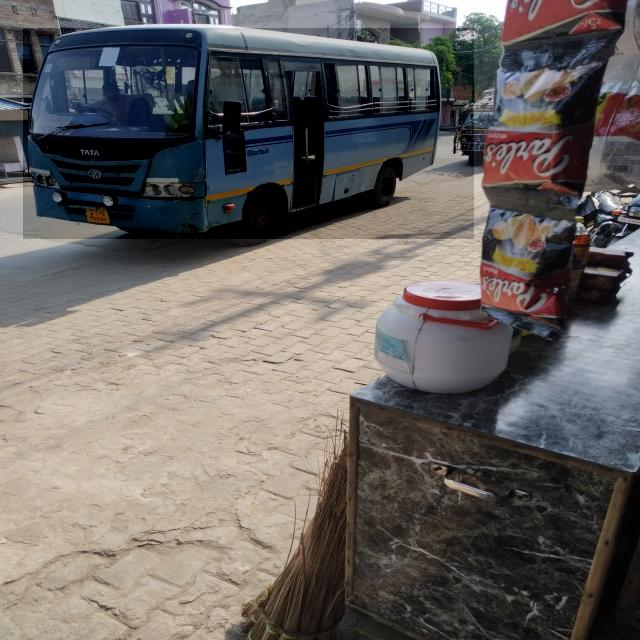Bus: (23, 28, 474, 239)
